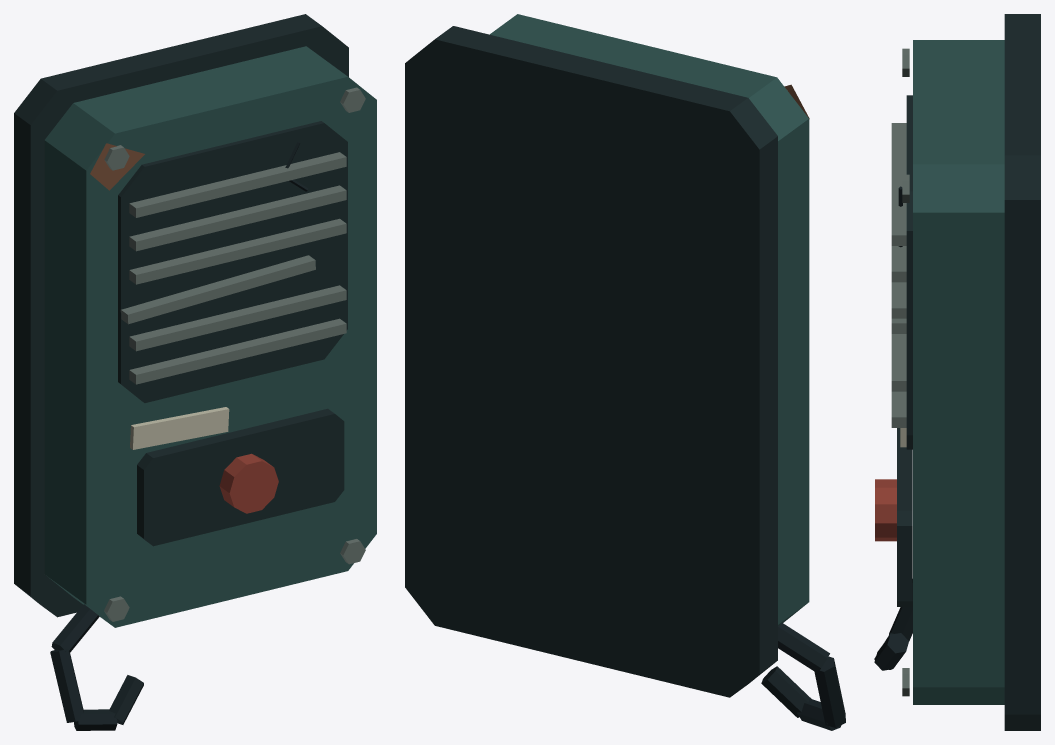
File: damaged-intercom.glb
3 renders of one model, left to right at view 1: azimuth 30°, elevation 25°; view 2: azimuth 150°, elevation 25°; view 3: azimuth 270°, elevation 25°, orthographic. The views are drawn at different scales.
Visible parts, largest first — view 1: damaged-intercom; view 2: damaged-intercom; view 3: damaged-intercom.
Boxes of the visible parts, x1=… form: damaged-intercom: x1=14, y1=14, x2=376, y2=730; damaged-intercom: x1=405, y1=14, x2=845, y2=730; damaged-intercom: x1=874, y1=14, x2=1040, y2=730.
Size of the model in its own units: 0.325 by 0.5568 by 0.1286.
